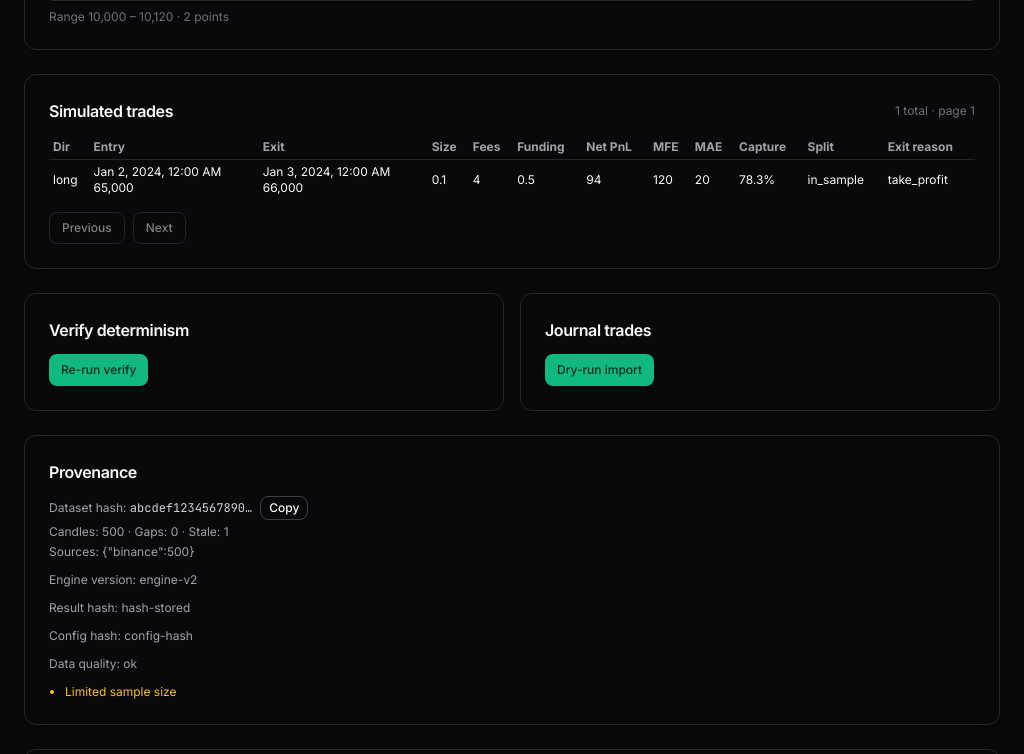
Test case: BacktestRunDetailPage › renders completed run metrics, splits, verify, and journal dry-run
(page scrolled)
What coordinates should you click on to do the following:
click the button "Re-run verify"
I would click on:
 (99, 370)
Its box is [49,354,148,386].
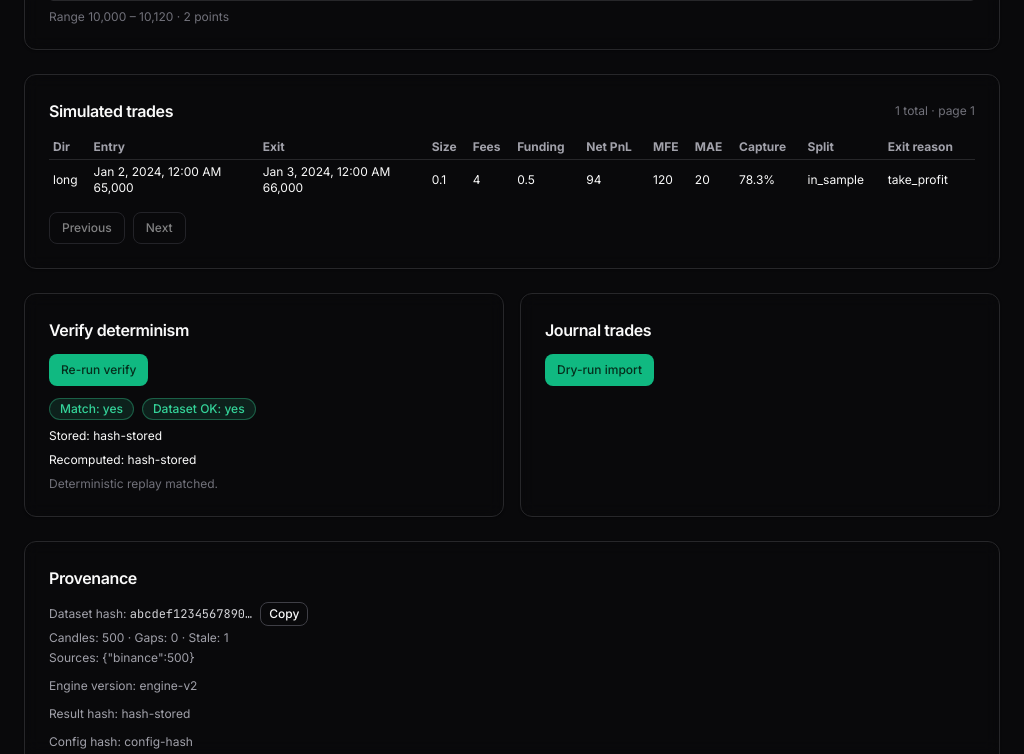
Now the text "Match: yes" is shown, box [49,398,134,420]
Now the text "Dataset OK: yes" is shown, box [142,398,256,420]
What coordinates should you click on to do the following:
click the button "Dry-run import"
I would click on:
 (600, 370)
Its box is [545,354,654,386].
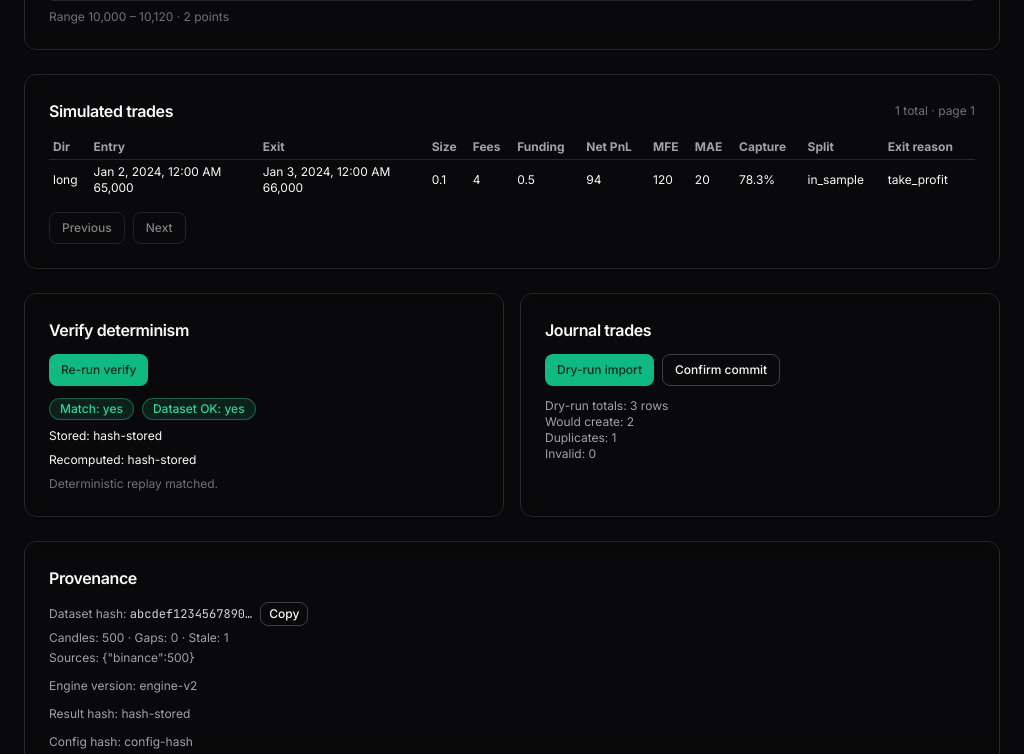
Now the element with test id "journal-dry-run-summary" shows "Would create: 2", box [545,398,668,461]
